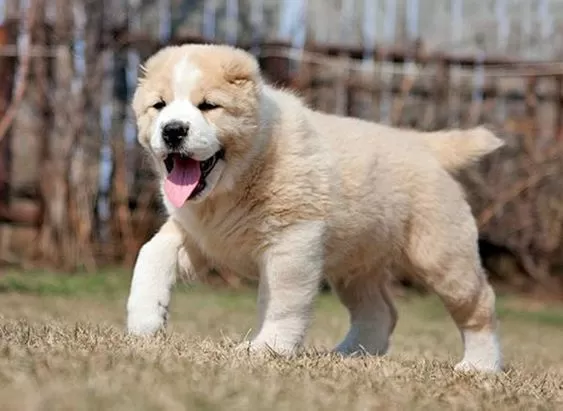dog: (100, 41, 508, 375)
